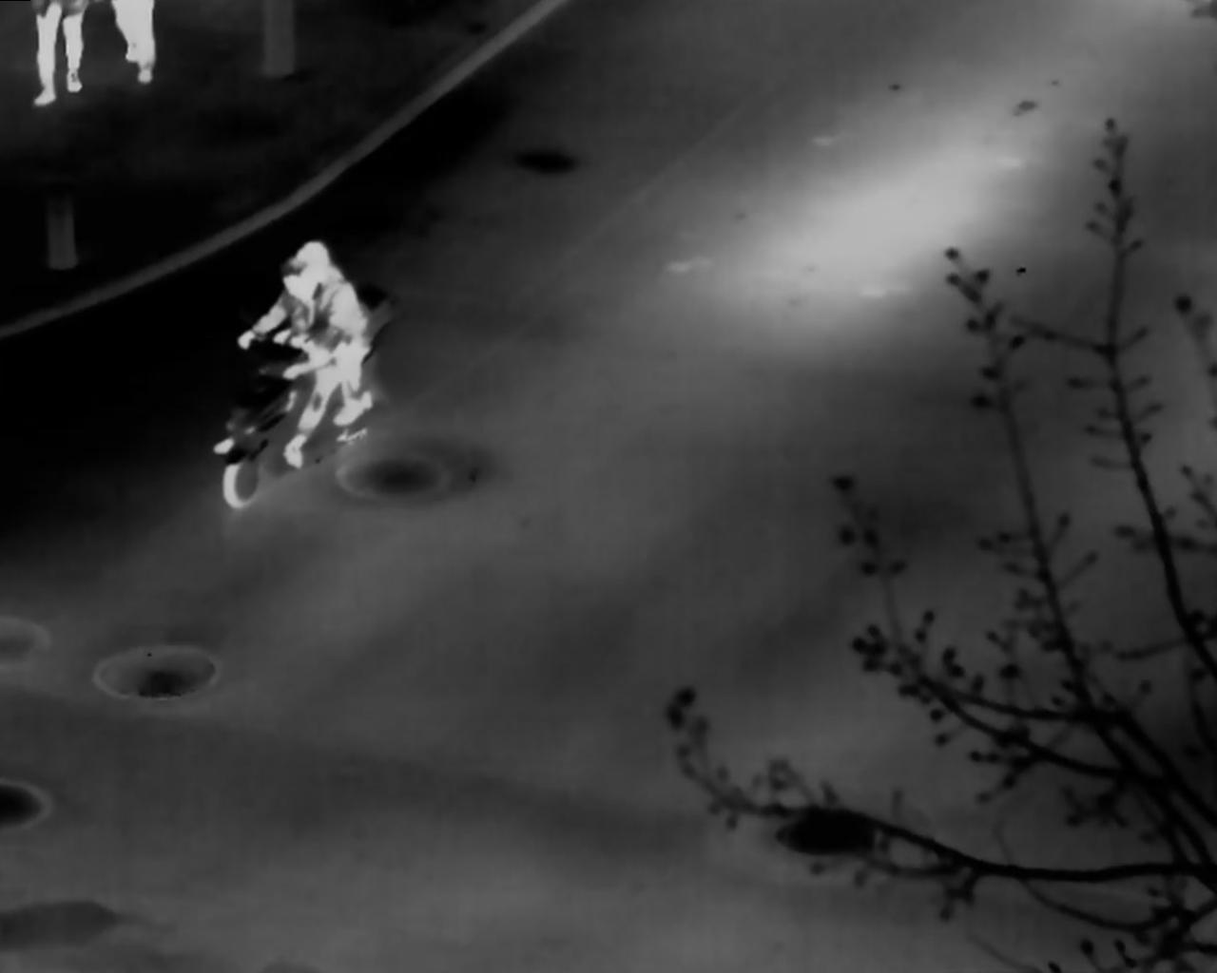person: (236, 262, 345, 469), (280, 237, 374, 426)
